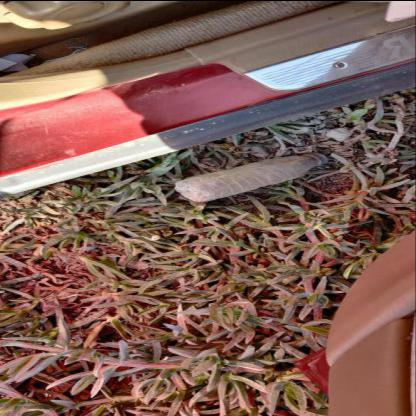Bottle: (308, 151, 330, 163)
Bottle cap: (174, 151, 329, 201)
Other litter: (43, 39, 89, 62)
Paper: (1, 53, 37, 71)
